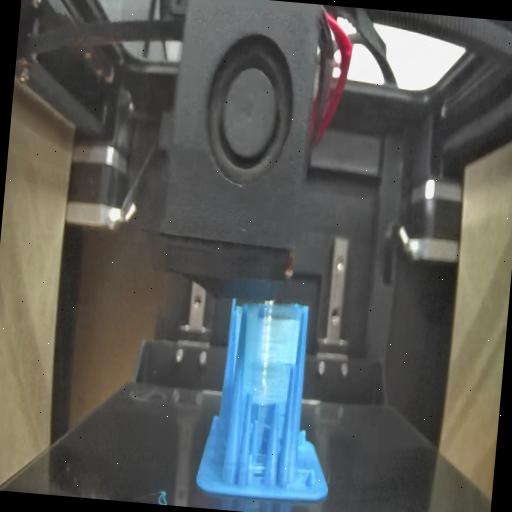stringing: (228, 301, 303, 408), (246, 417, 272, 483), (294, 468, 312, 490)
